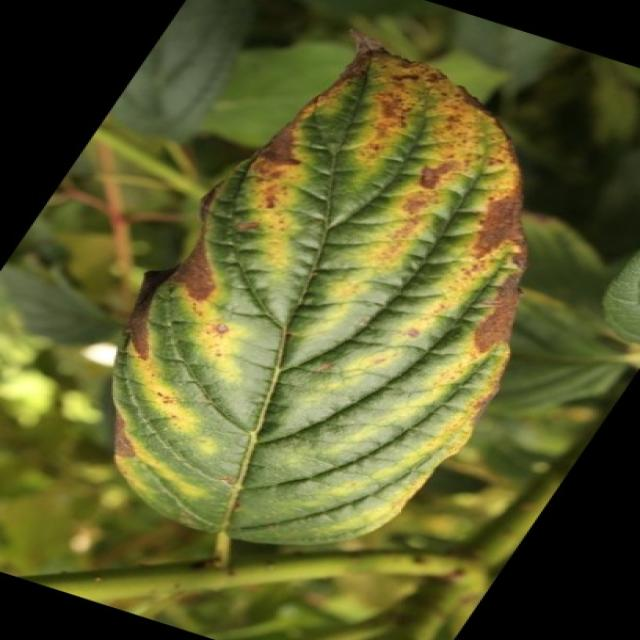Chlorosis: (114, 51, 492, 559)
